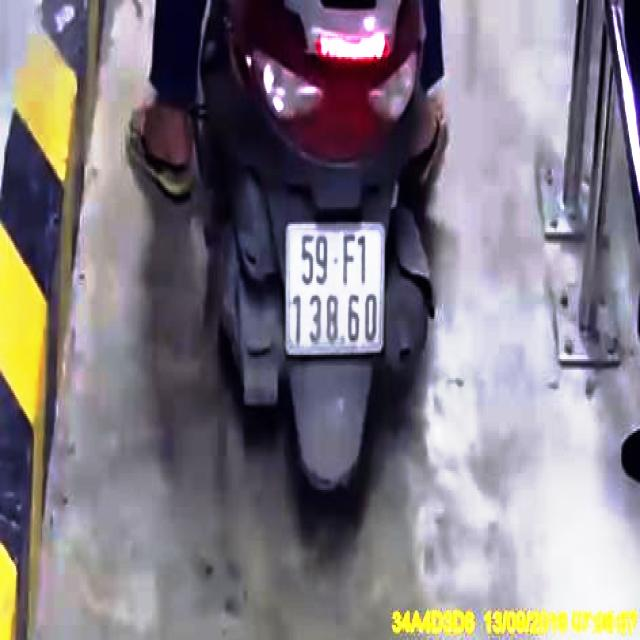license_plate: (289, 225, 384, 356)
